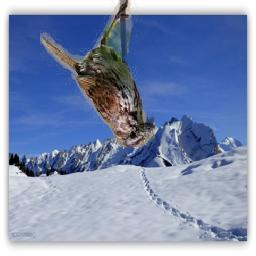Sparrow: (41, 1, 156, 148)
